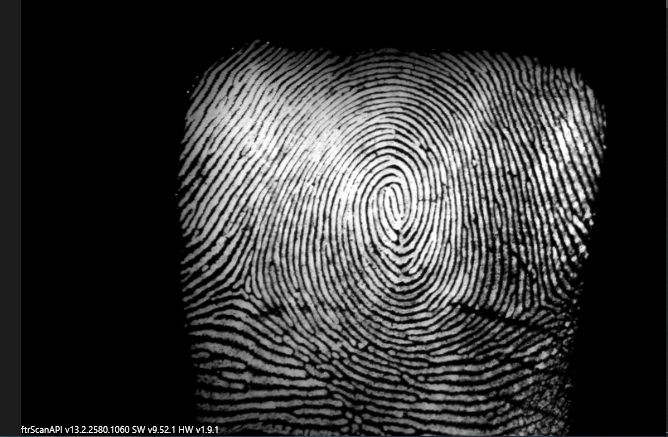deltas: (223, 254, 265, 308), (516, 278, 564, 323)
nucleo: (370, 173, 418, 241)
